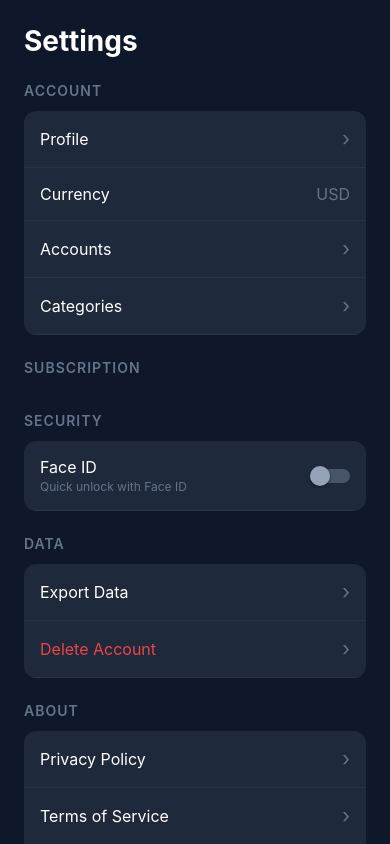
Test case: SettingsScreen › Biometric Toggle › shows error when enabling biometric fails
Click the switch with test id "biometric-switch" at (330, 476), box [310,466,350,486]
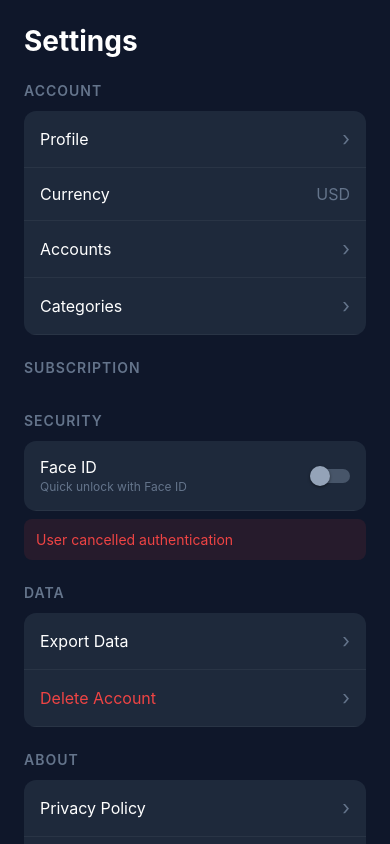
expect the text "User cancelled authentication" is shown: met, box [36,531,233,548]
